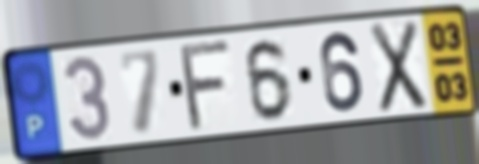3: (60, 52, 113, 146)
6: (243, 36, 296, 123), (317, 29, 366, 116)
7: (117, 46, 164, 139)
F: (178, 37, 236, 135)
X: (367, 17, 429, 117)
